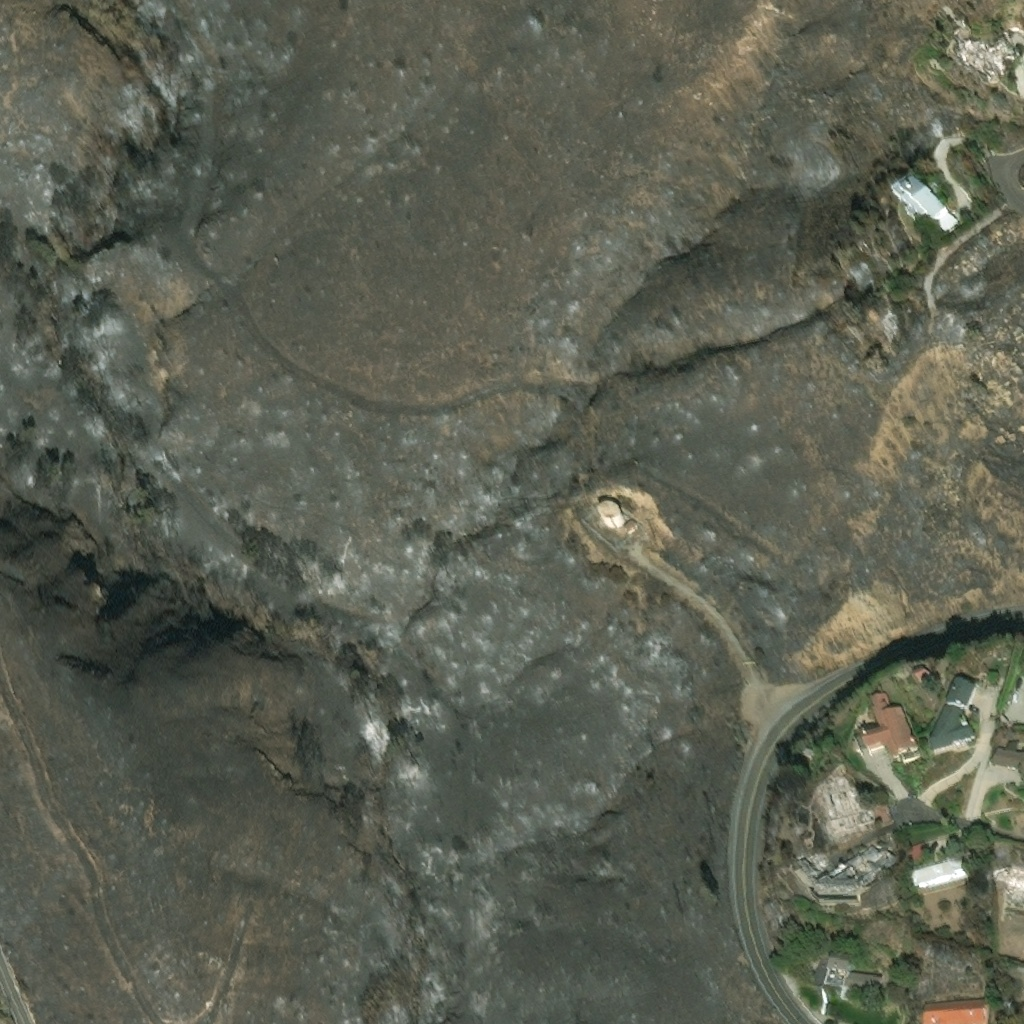0 no-damage: (853, 687, 918, 760), (927, 672, 978, 753), (891, 173, 960, 232), (824, 953, 879, 997), (912, 860, 969, 895), (925, 1004, 989, 1023), (598, 502, 621, 525), (911, 844, 926, 867), (909, 665, 929, 681)
2 major-damage: (795, 846, 900, 901)
3 destroyed: (815, 771, 885, 843), (954, 37, 1003, 74), (879, 311, 899, 331), (794, 827, 805, 837)
4 un-classified: (994, 868, 1023, 910), (992, 741, 1023, 775)
